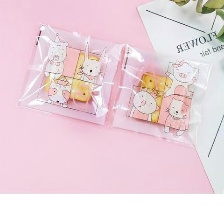snack: (11, 18, 127, 130), (106, 39, 216, 150)
